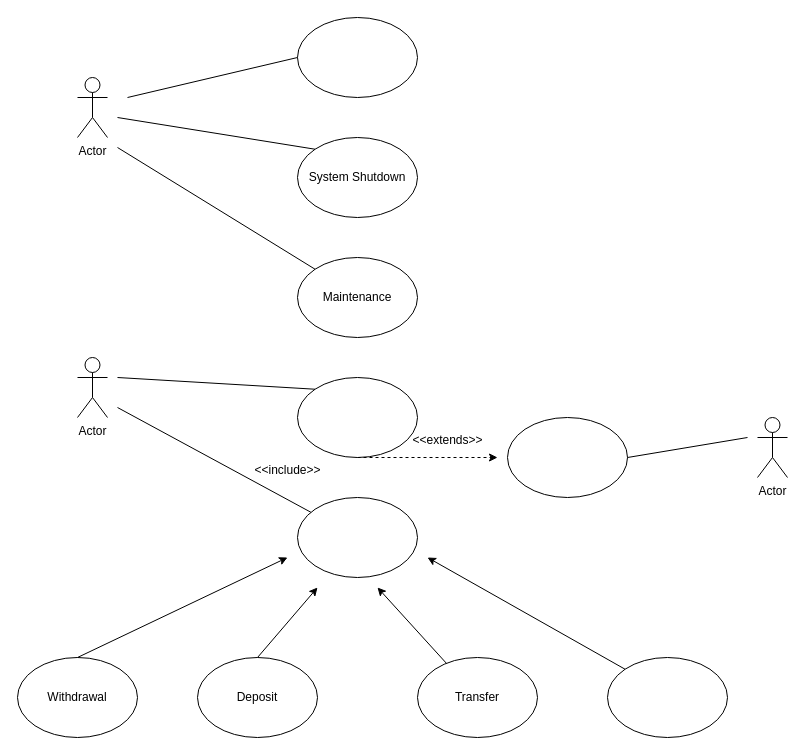
The diagram is 805 pixels wide and 755 high, and some of its shapes have lost their labels. Each missing label, with the box of its shape:
Invalid PIN: (506, 416, 628, 498)
Session: (296, 376, 418, 458)
System Startup: (296, 16, 418, 98)
Transaction: (296, 496, 418, 578)
